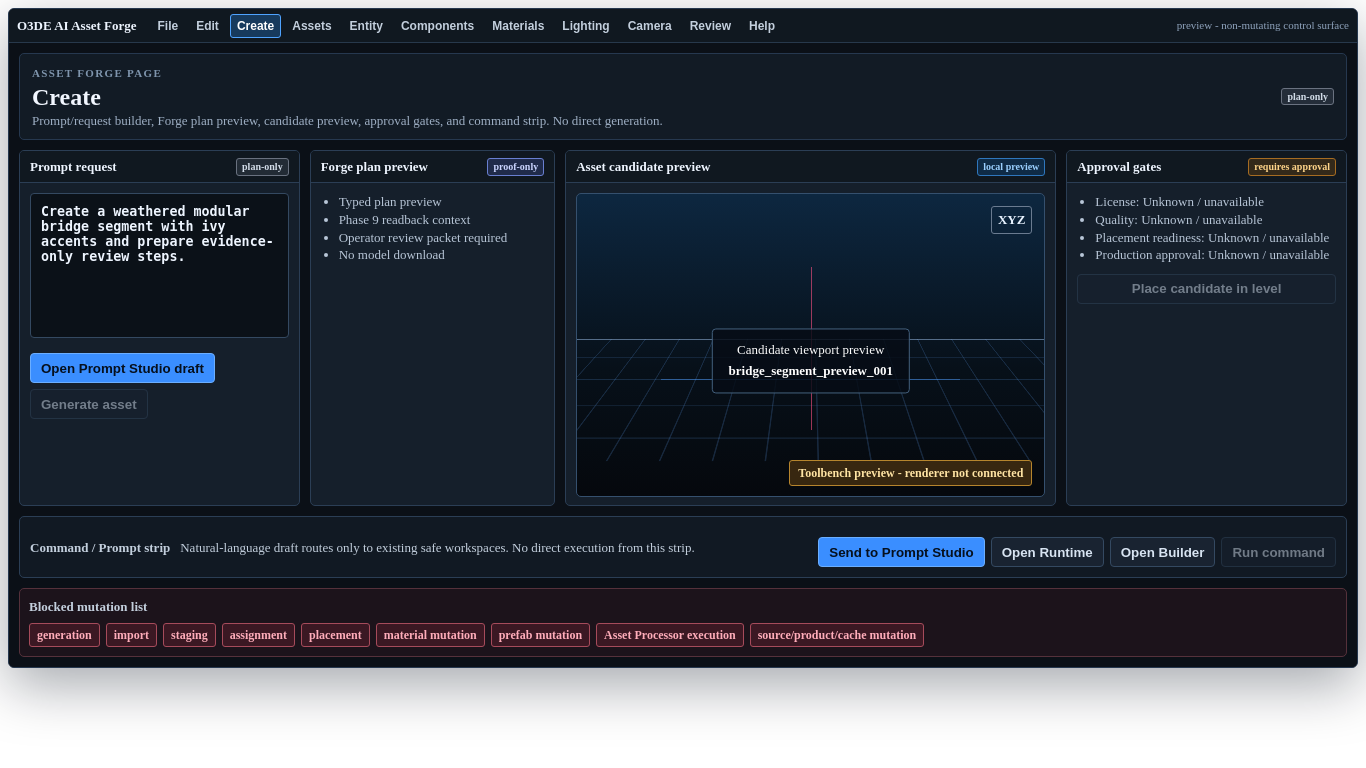
Scenario: AssetForgeToolbenchLayout › renders Lighting with full panel columns and no entity tool-shelf rail
Click the button "Lighting": {"x": 586, "y": 26} [555, 14, 617, 38]
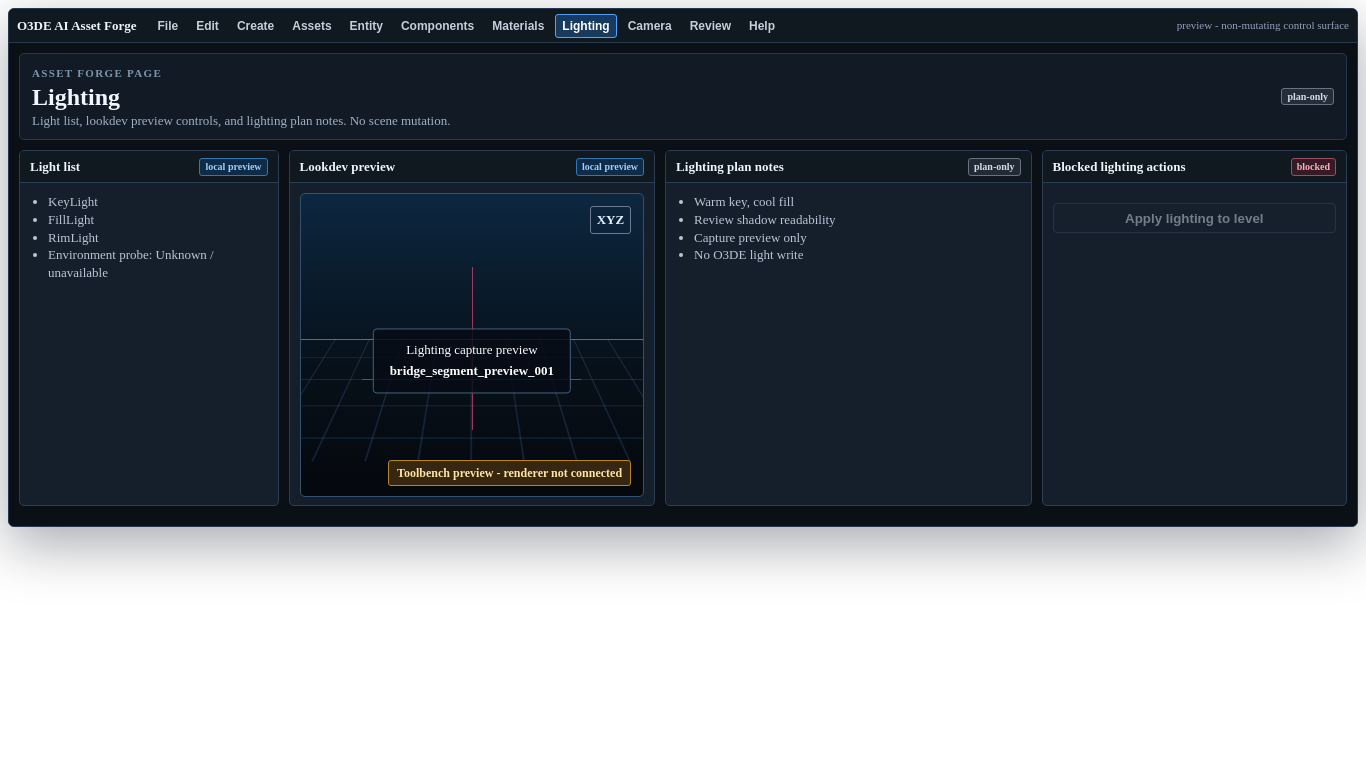
expect the element named "Asset Forge Lighting page" is shown: met
expect the text "Light list" is shown: met, box [30, 159, 80, 174]
expect the text "Lookdev preview" is shown: met, box [300, 159, 395, 174]
